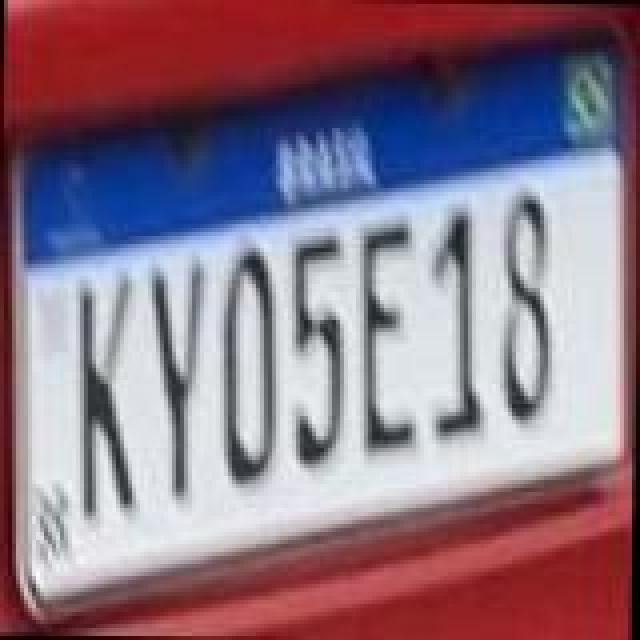1: (424, 204, 484, 440)
5: (288, 234, 348, 470)
8: (496, 184, 556, 424)
E: (356, 216, 424, 460)
K: (74, 270, 142, 522)
O: (222, 246, 286, 486)
Y: (146, 254, 206, 502)
